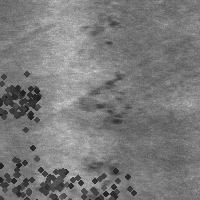rolled-in_scale: (46, 147, 144, 200), (0, 128, 72, 200), (0, 63, 49, 133), (81, 66, 133, 128), (83, 151, 123, 200), (77, 6, 121, 49), (31, 161, 77, 200)
